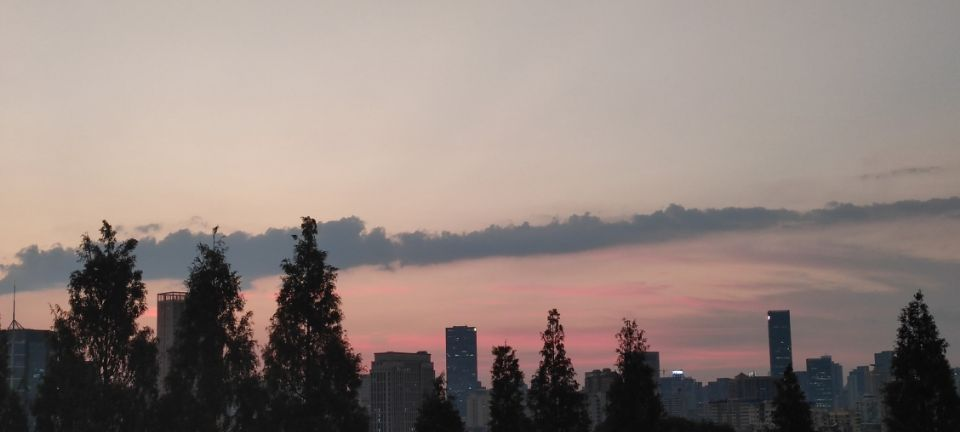Stratus: (15, 166, 960, 286)
